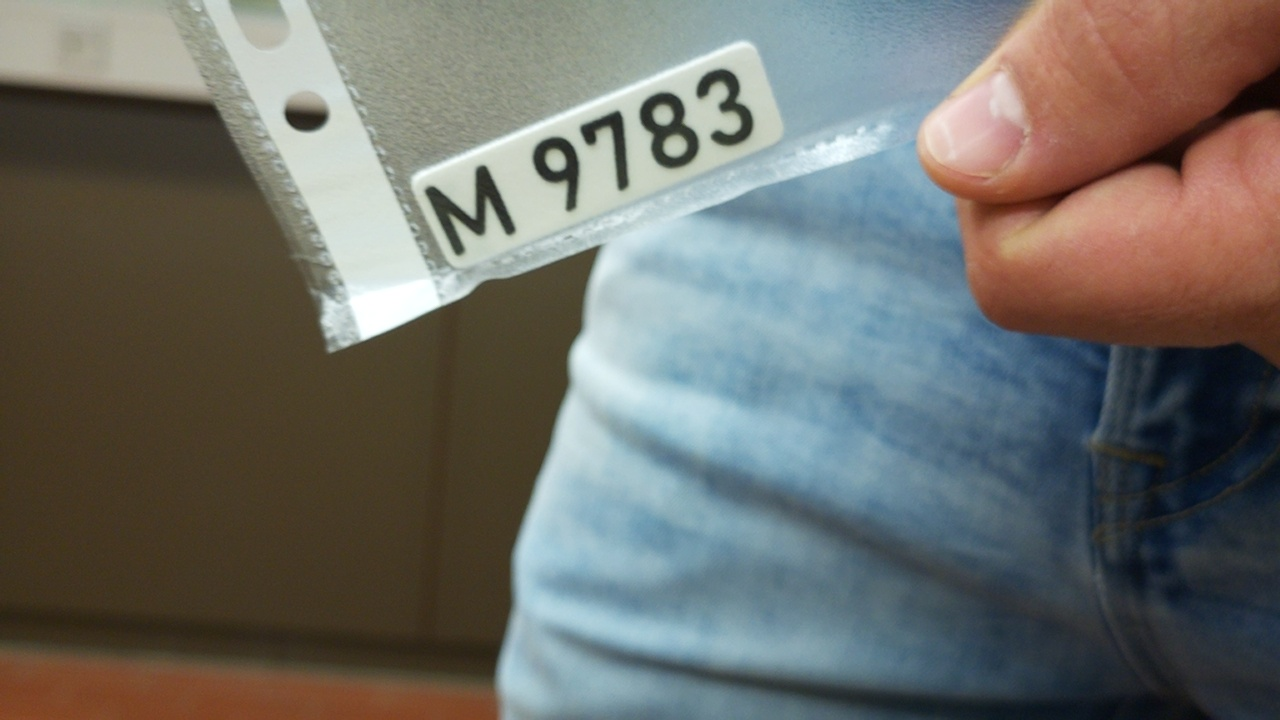license_plate: (408, 36, 789, 273)
